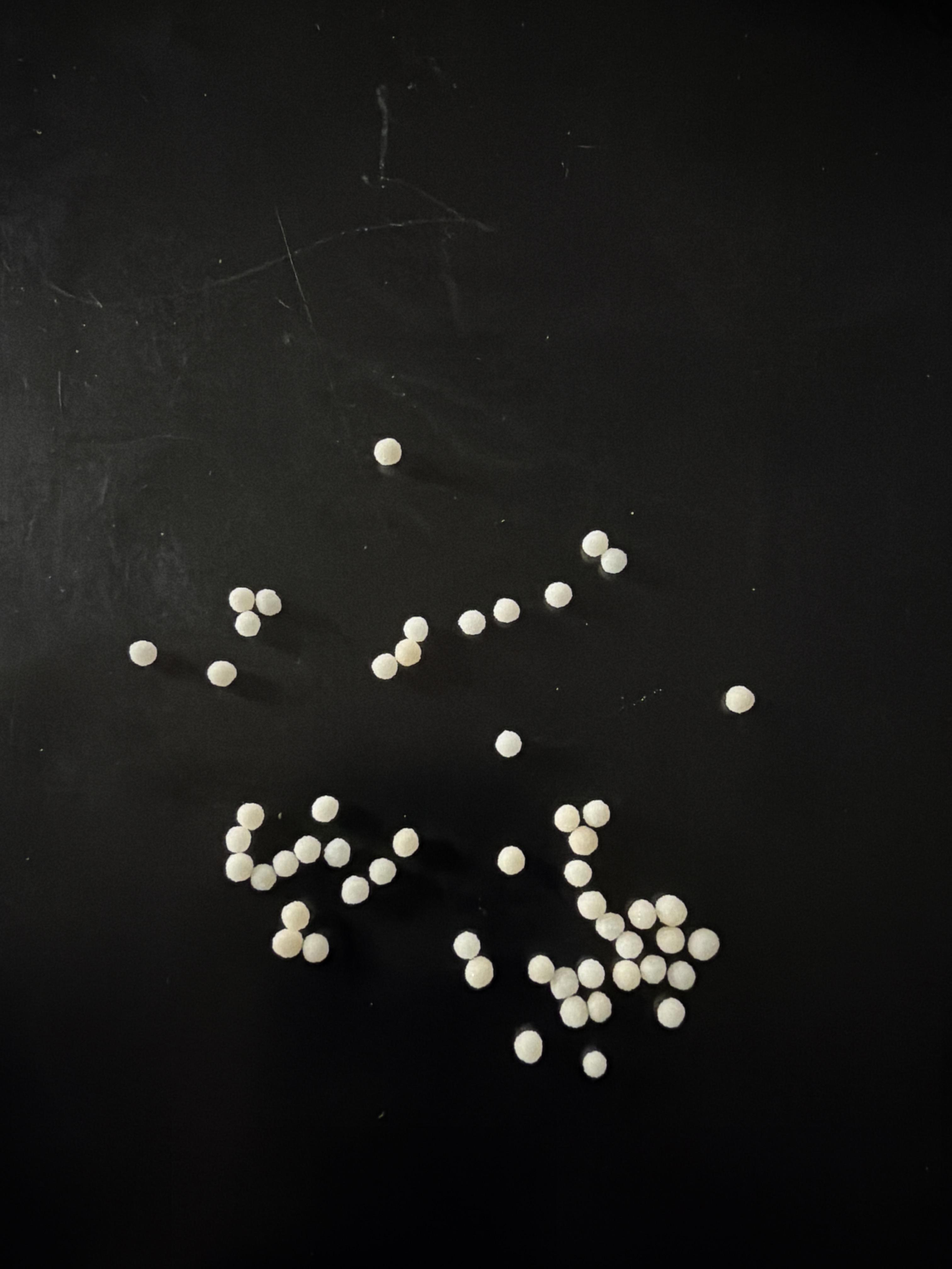pill: (687, 928, 719, 961), (513, 1029, 543, 1064), (654, 895, 687, 926), (559, 995, 588, 1028), (549, 967, 578, 1000), (464, 956, 493, 989), (272, 928, 303, 958), (576, 958, 605, 989), (612, 960, 641, 991), (656, 997, 685, 1028), (595, 912, 624, 942), (568, 826, 598, 855), (724, 685, 755, 713), (281, 901, 310, 930), (577, 891, 606, 920), (667, 961, 696, 990), (627, 900, 656, 929), (656, 926, 685, 955), (225, 853, 254, 882), (373, 437, 402, 466), (341, 875, 369, 905), (527, 954, 555, 984), (392, 827, 419, 858), (564, 859, 592, 888), (293, 835, 321, 864), (453, 931, 480, 961), (497, 846, 524, 876), (206, 660, 236, 687), (302, 933, 329, 963), (640, 954, 666, 985), (587, 991, 612, 1023), (311, 795, 339, 823), (582, 800, 610, 828), (581, 530, 609, 558), (615, 931, 643, 959), (394, 638, 421, 667), (553, 804, 580, 833), (324, 838, 350, 868), (255, 588, 282, 616), (236, 804, 264, 831), (495, 730, 522, 758), (128, 640, 157, 666), (371, 653, 398, 680), (272, 850, 299, 877), (544, 582, 572, 608), (250, 863, 276, 891), (225, 825, 251, 853), (582, 1050, 607, 1079), (600, 548, 627, 574), (369, 859, 396, 885), (458, 610, 486, 635), (493, 598, 520, 623), (403, 617, 428, 643), (229, 587, 254, 612), (235, 611, 260, 636)
